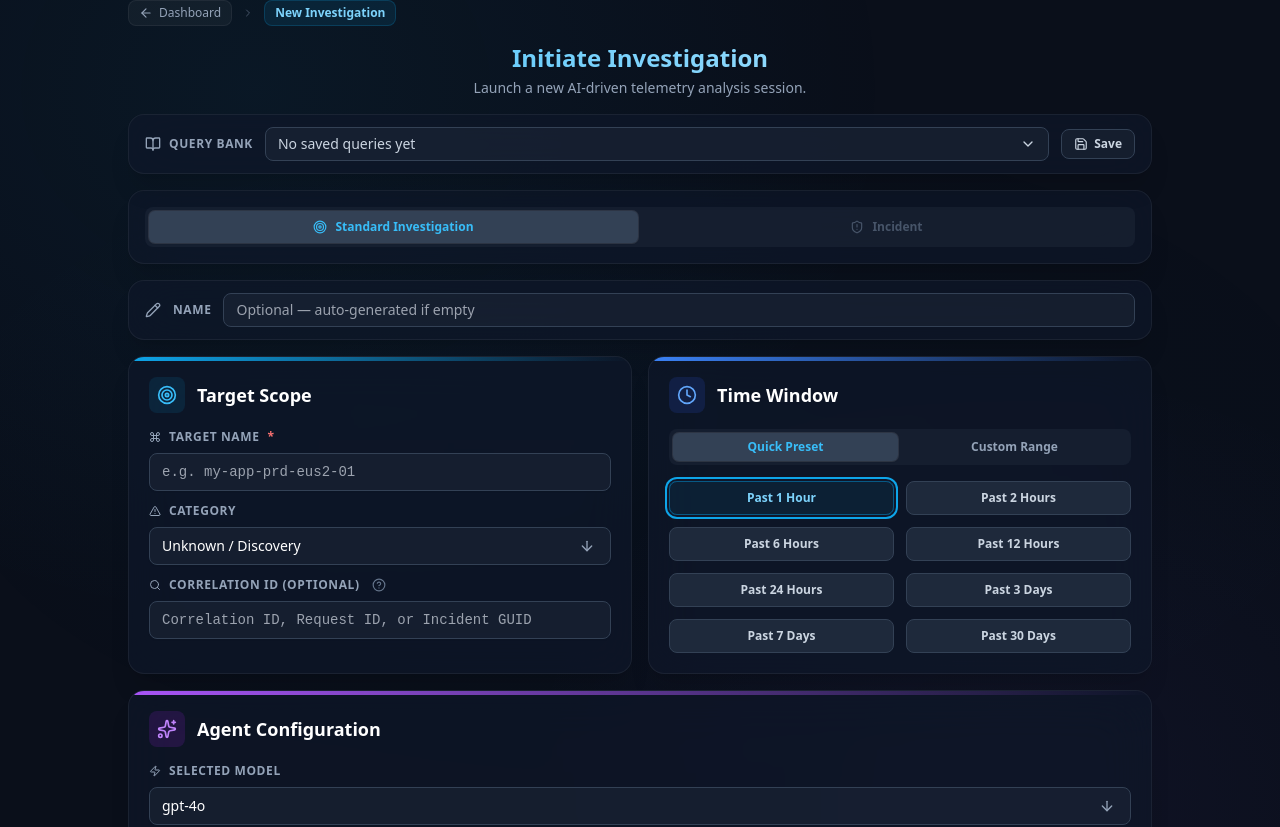
it: NewInvestigation › shows invalid format error for bad timestamp
Expected: the heading "Initiate Investigation" is shown, [128,42,1152,74]
Click the button "Custom Range" at [1014, 447], box [902,433,1127,461]
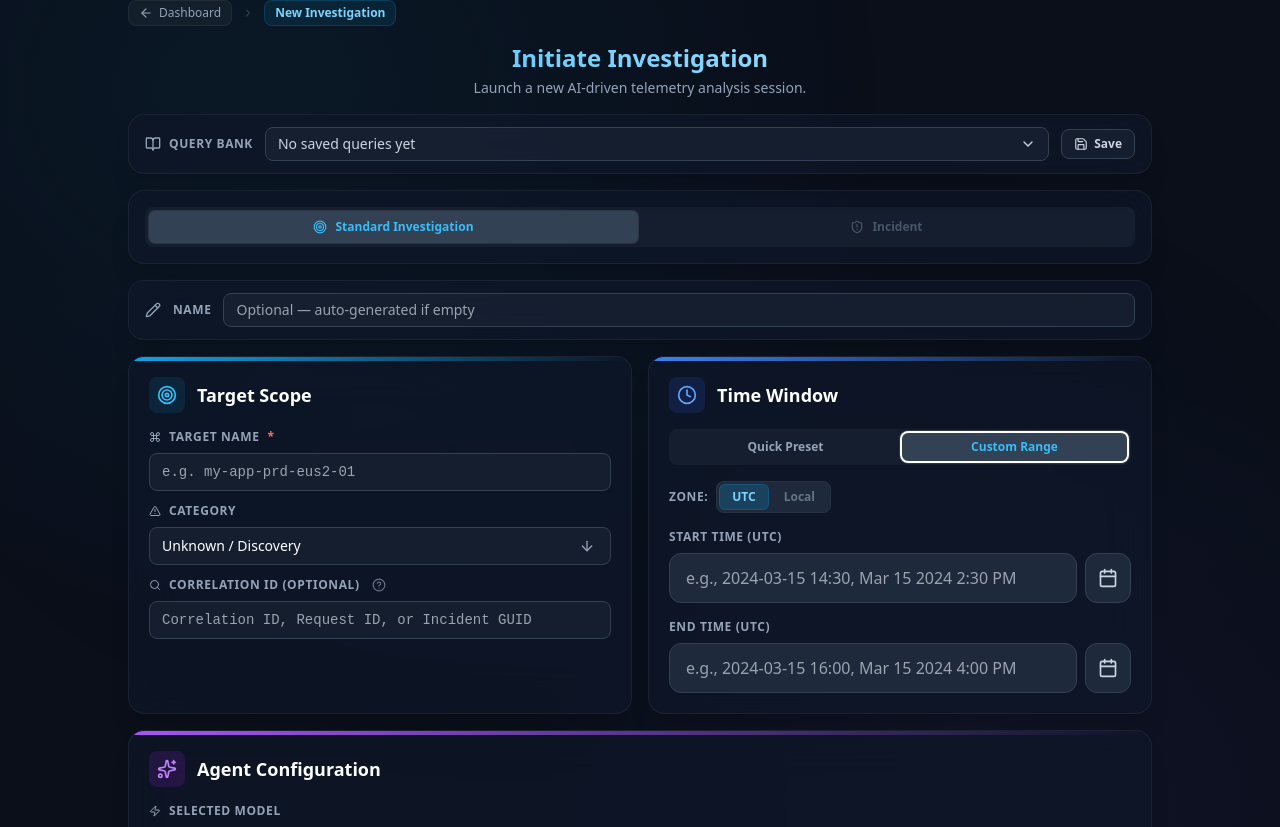
Now the field with placeholder "e.g., 2024-03-15 14:30, Mar 15 2024 2:30 PM" is shown
Type "not-a-date" into the field with placeholder "e.g., 2024-03-15 14:30, Mar 15 2024 2:30 PM" at [873, 578], box [669,553,1077,603]
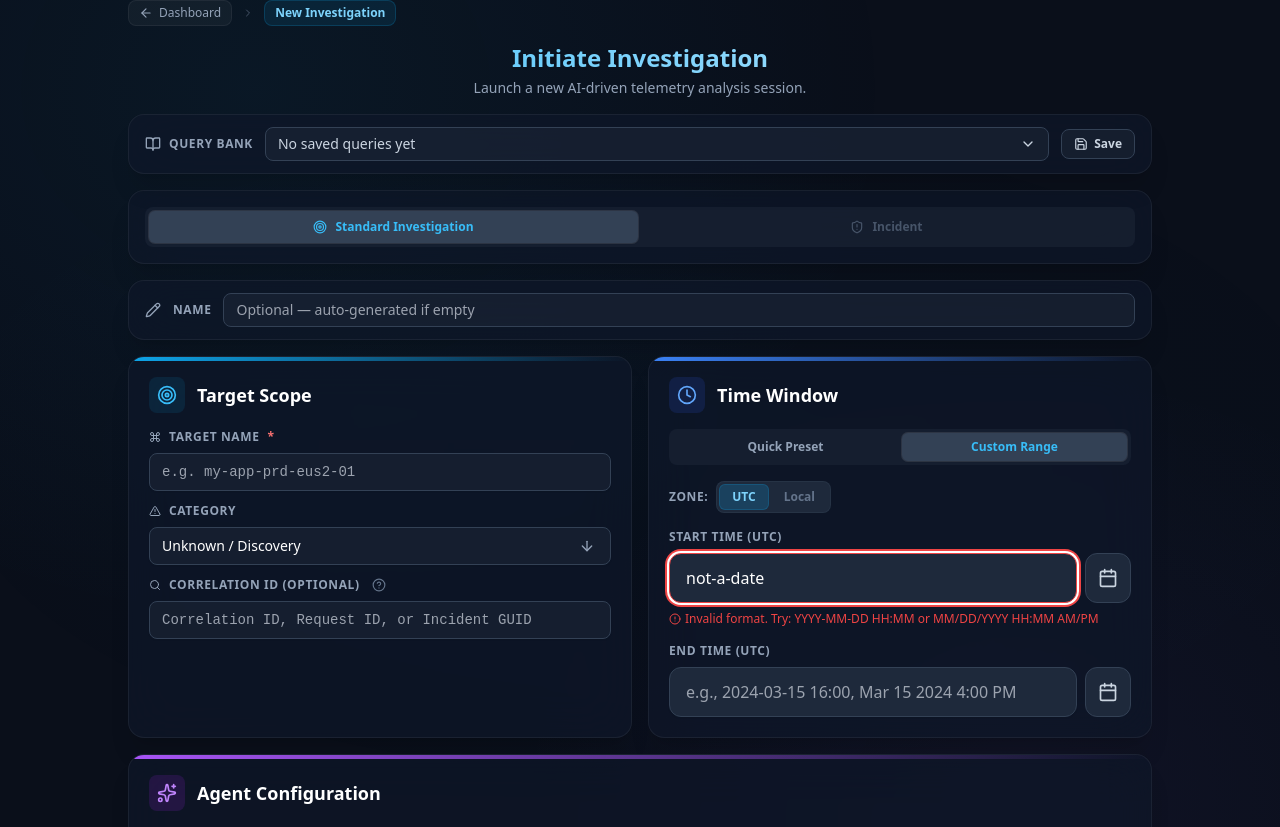
Now the text "Invalid format" is shown, box [685,610,1098,627]
